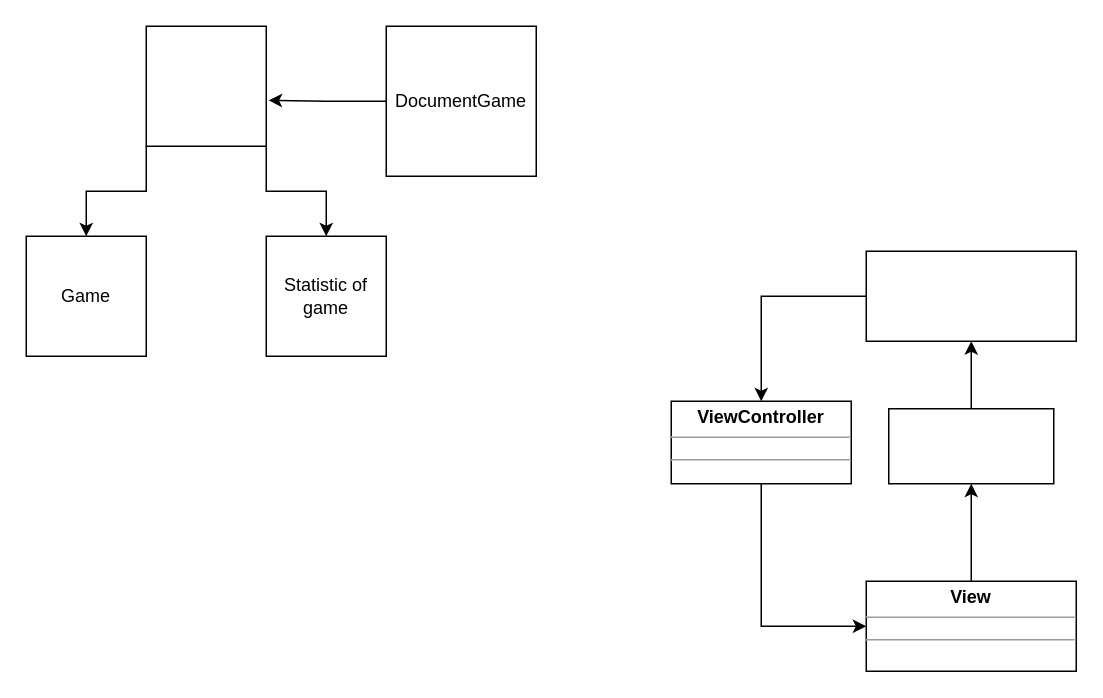
This 1103x698 diagram has some shape labels left out. Here are the shapes that lost their labels. From the top down, the centre of each, then its label:
the point at 205,85: Page
the point at 970,295: Model
the point at 970,445: ActionController
